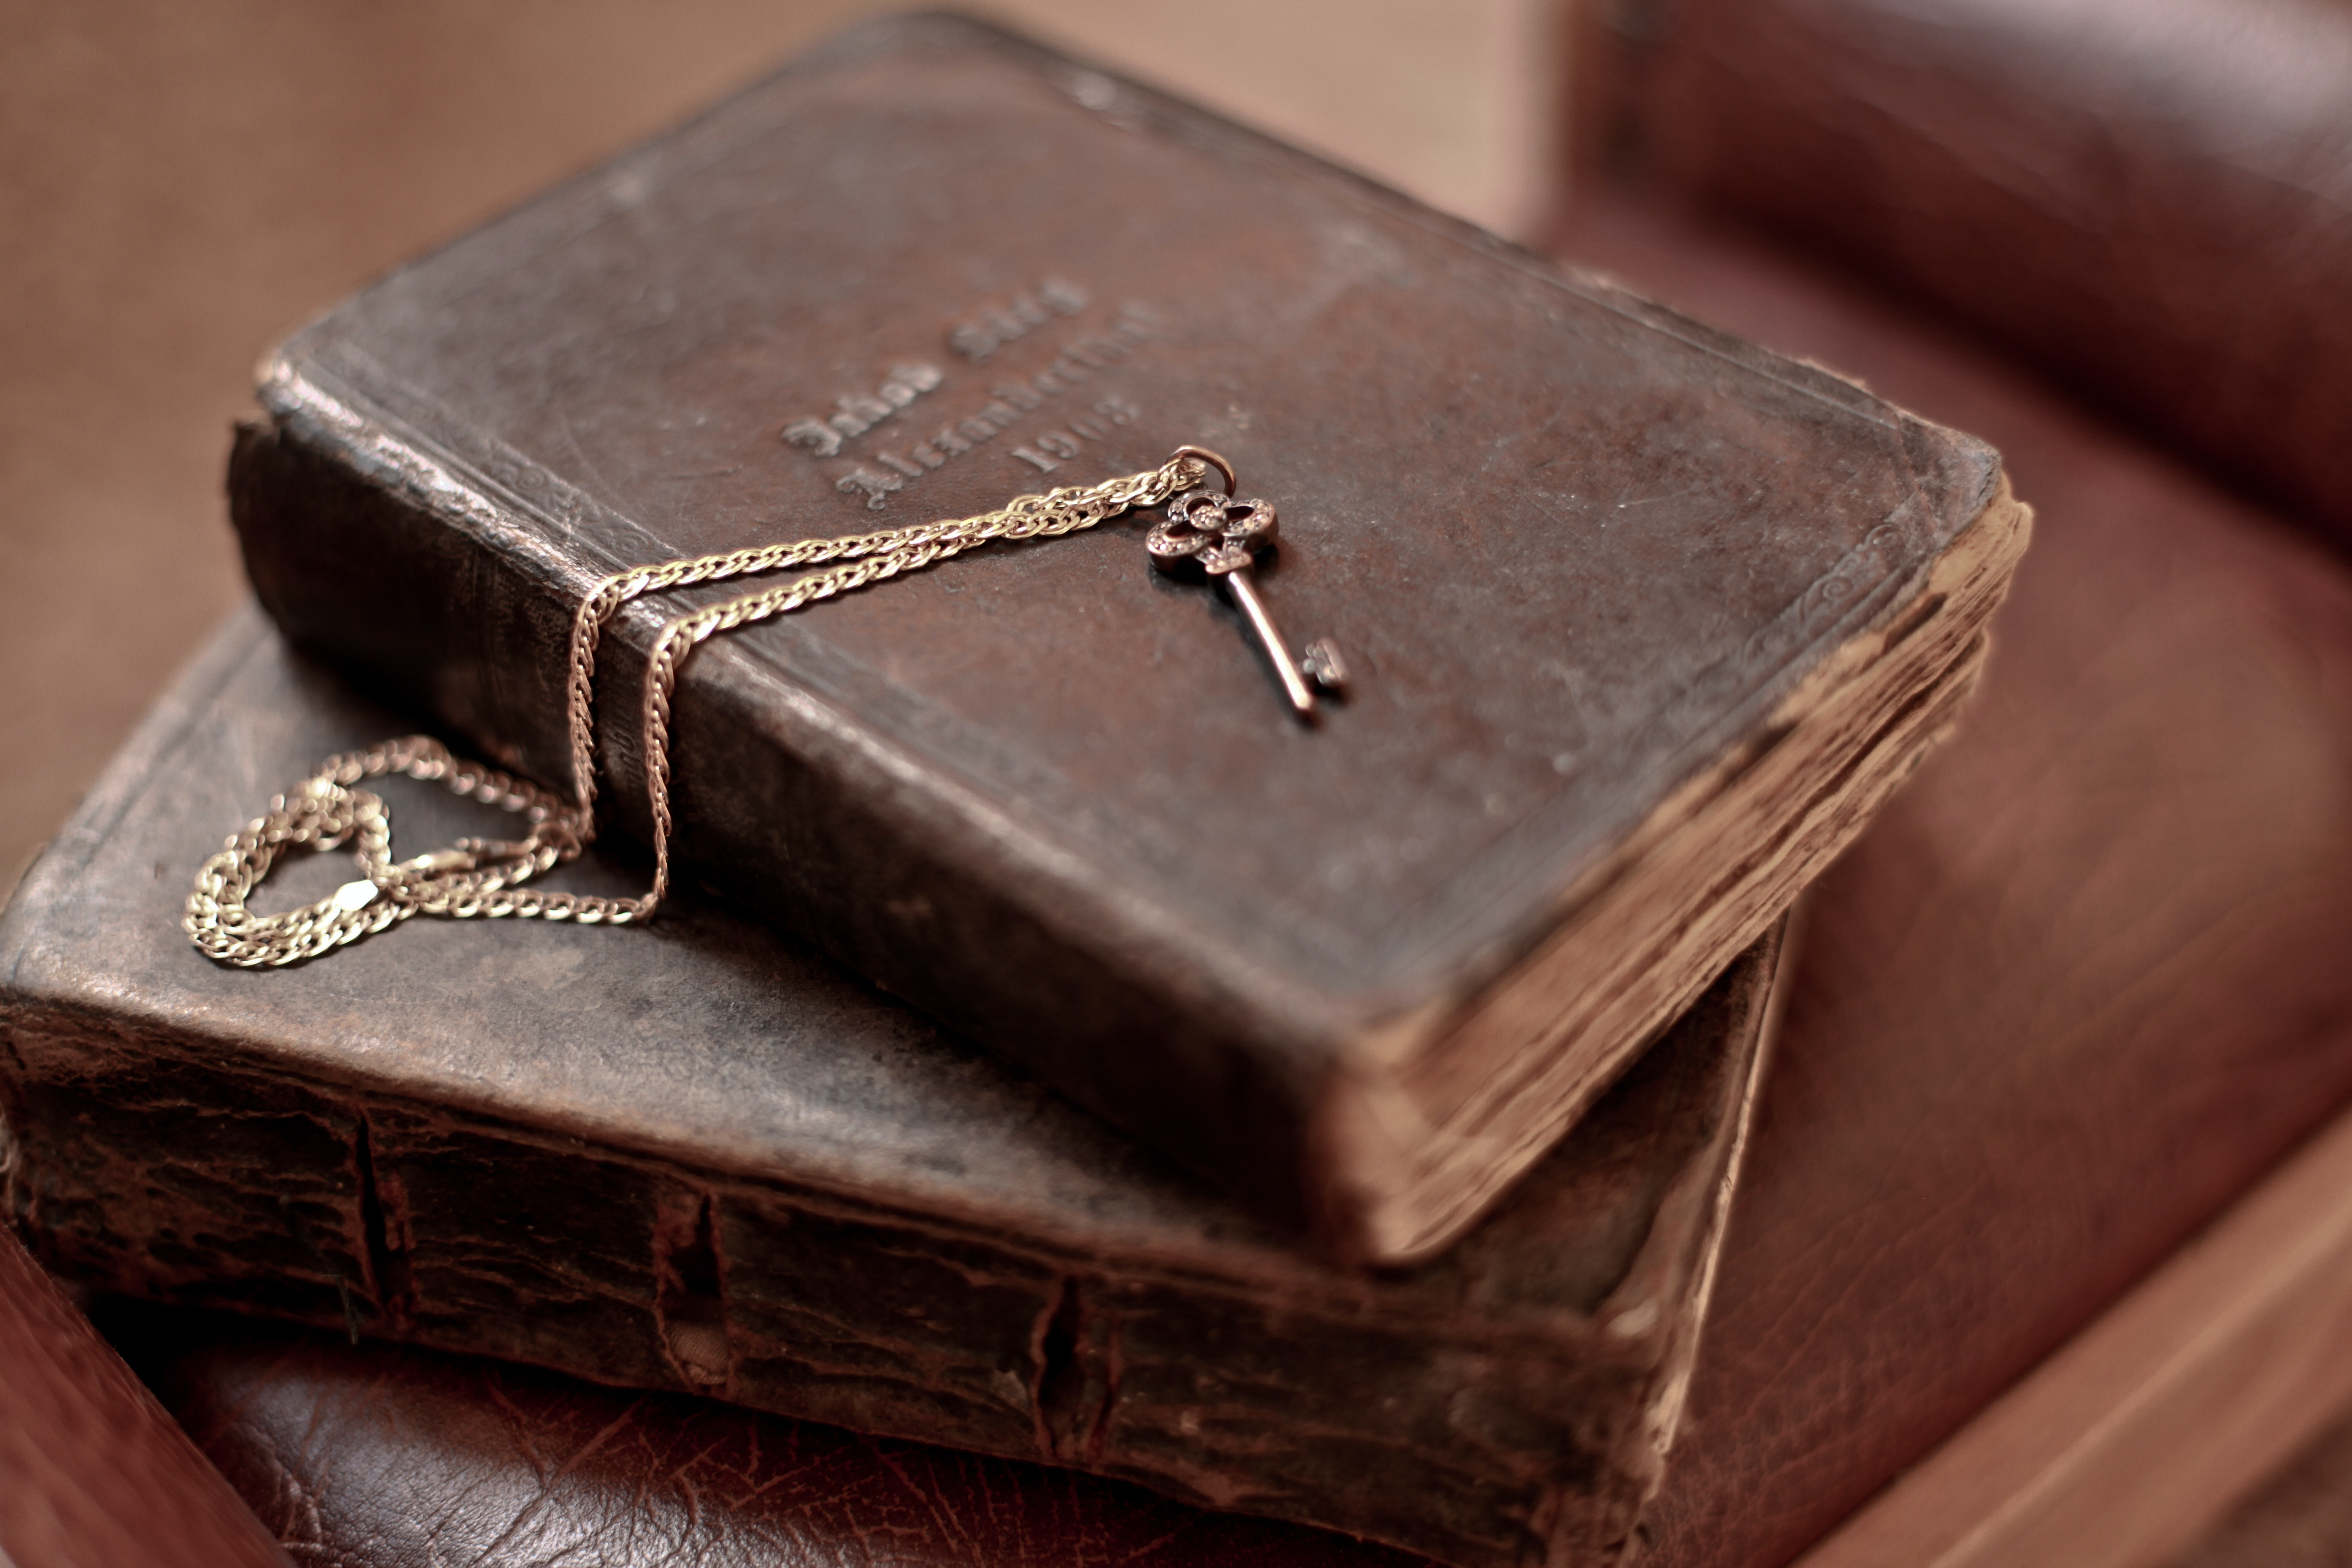key: (1134, 465, 1376, 725)
